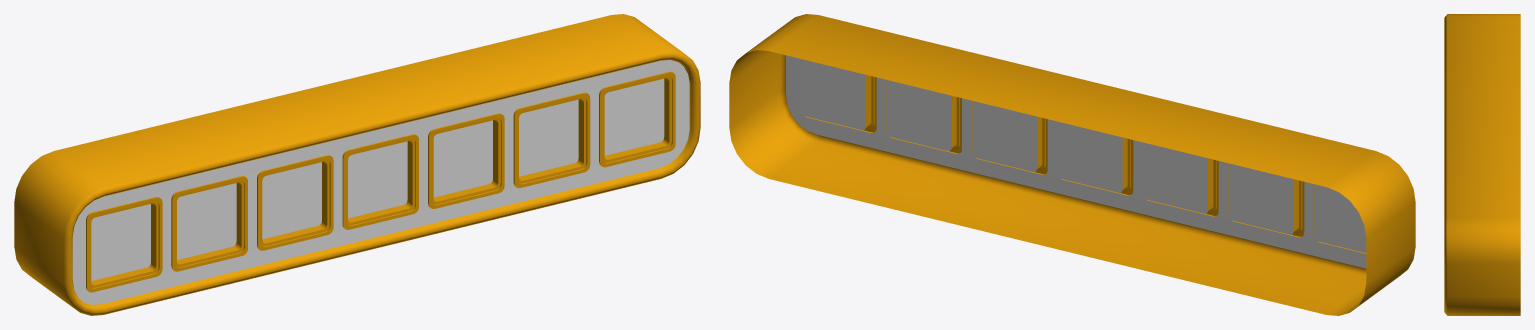
The model's file is ui-panel (2).fbx.
3 renders of one model, left to right at view 1: azimuth 30°, elevation 25°; view 2: azimuth 150°, elevation 25°; view 3: azimuth 270°, elevation 25°, orthographic. The views are drawn at different scales.
Parts seen in each view (by area): view 1: ui-panel; view 2: ui-panel; view 3: ui-panel.
Part boxes in pixels (<box>): ui-panel: <box>14,14,700,315</box>; ui-panel: <box>729,14,1415,315</box>; ui-panel: <box>1444,14,1520,315</box>.
Size of the model in its own units: 312 by 59.9 by 43.89.
